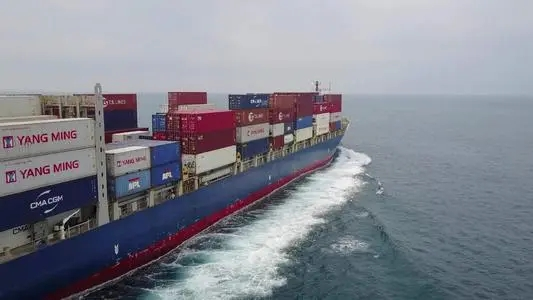Cargoship: (1, 71, 349, 299)
